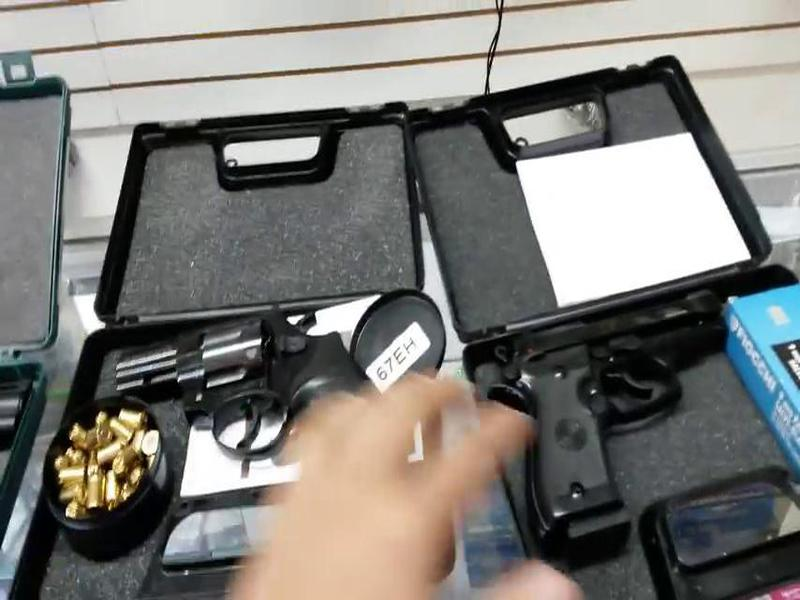Revolver: (104, 305, 420, 482)
